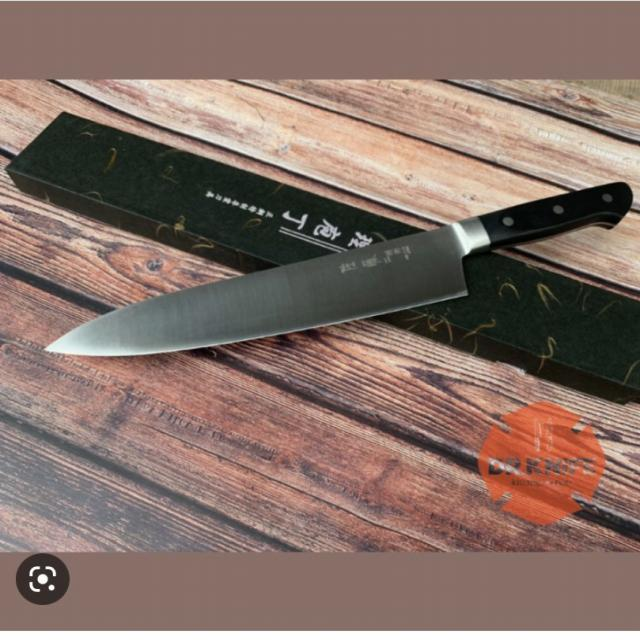Knife: (35, 119, 638, 392)
